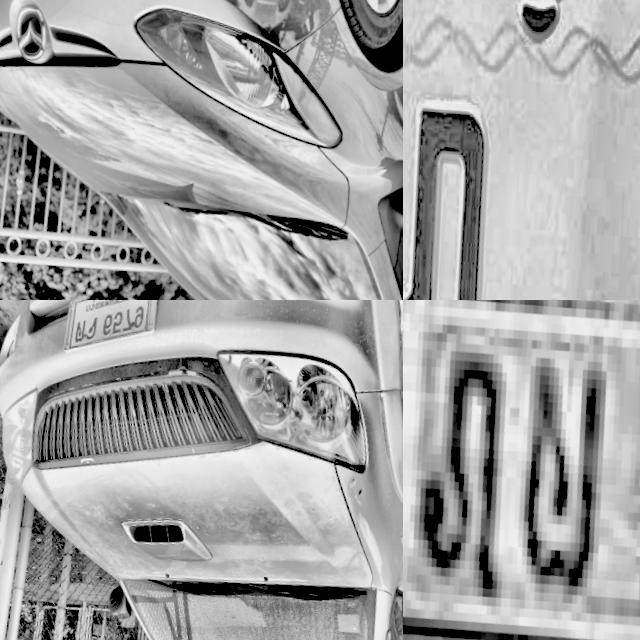license-plate: (403, 300, 640, 640), (403, 0, 640, 300), (50, 300, 169, 377)
